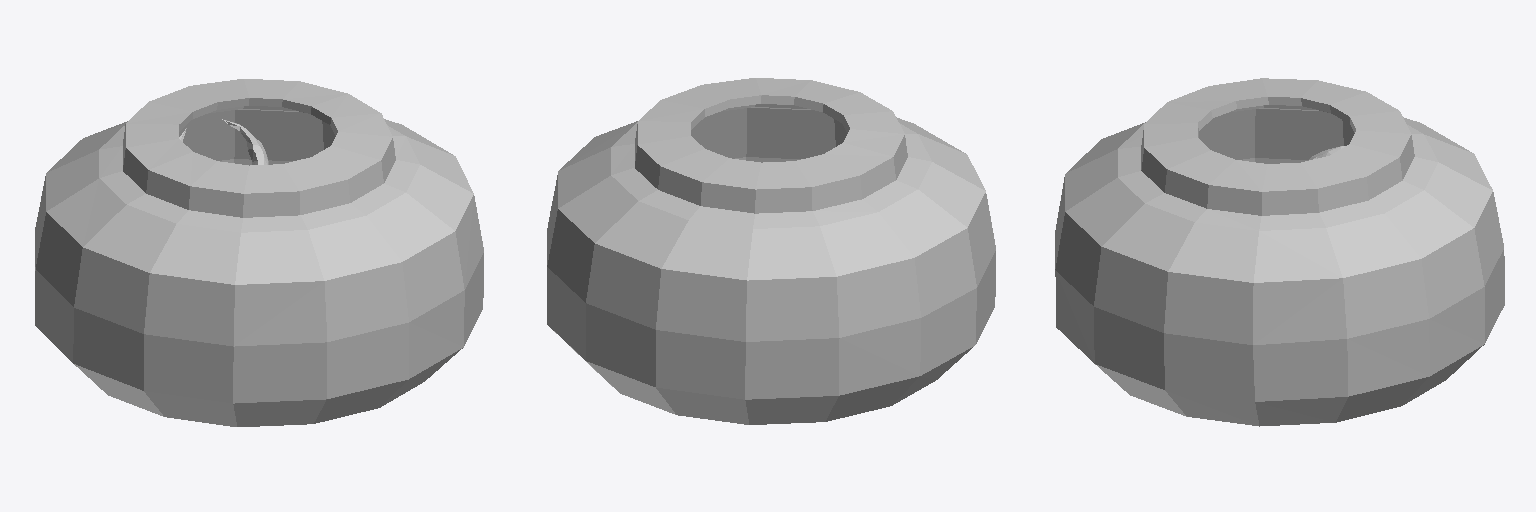
Rendered from Goldfish Seadragons fishbowl.obj.
3 renders of one model, left to right at view 1: azimuth 30°, elevation 25°; view 2: azimuth 150°, elevation 25°; view 3: azimuth 270°, elevation 25°, orthographic.
Parts seen in each view (by area): view 1: nurbsToPoly2, SeaDragonforFishBowl:polySurface2; view 2: nurbsToPoly2; view 3: nurbsToPoly2.
Part boxes in pixels (x1,y1,x2,y2): nurbsToPoly2: (35, 79, 483, 426); SeaDragonforFishBowl:polySurface2: (179, 119, 268, 164); nurbsToPoly2: (547, 78, 995, 424); nurbsToPoly2: (1055, 78, 1504, 426).
Bounding box in the file's own units: 33.2 × 20.4 × 33.03.